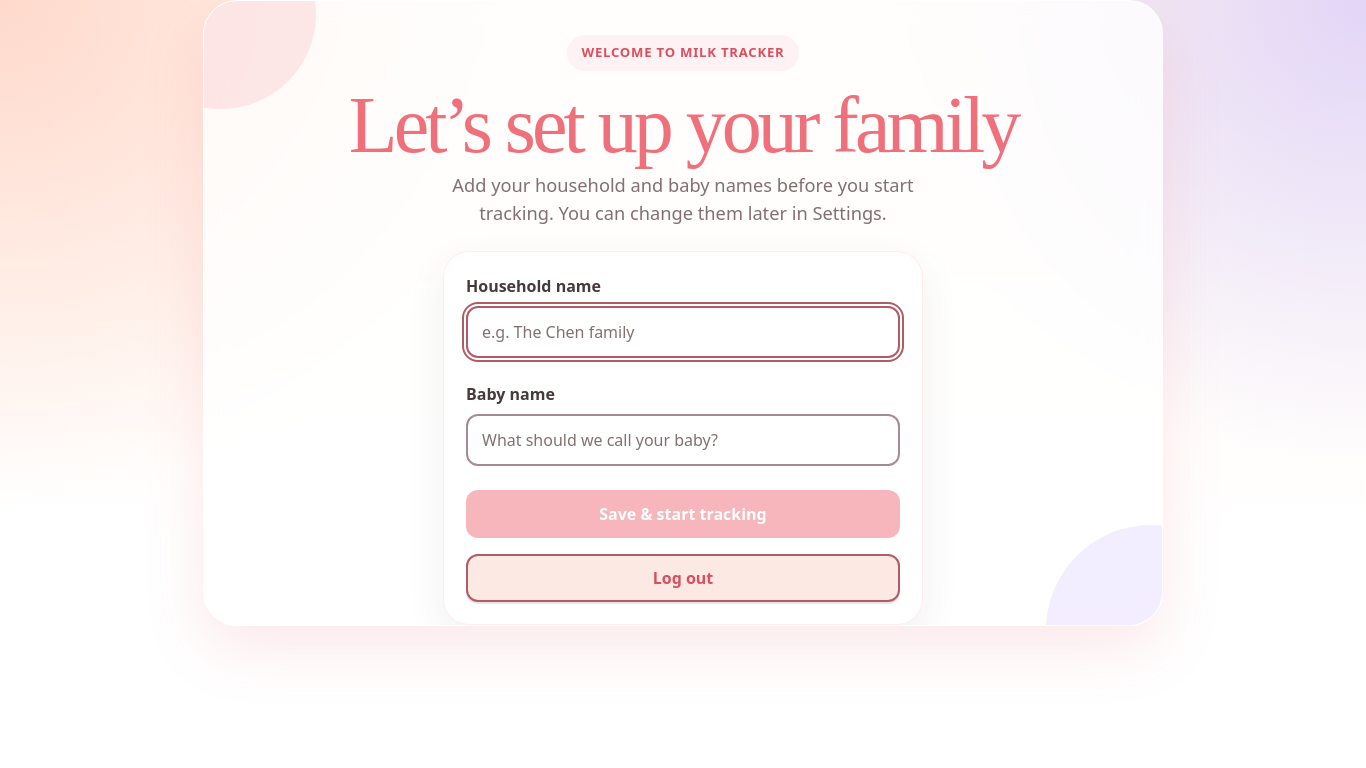
Test case: failed setup keeps both names available for retry and does not open tracking
Type "Family" into the field labelled "Household name" at point(683, 332), box [466, 306, 900, 358]
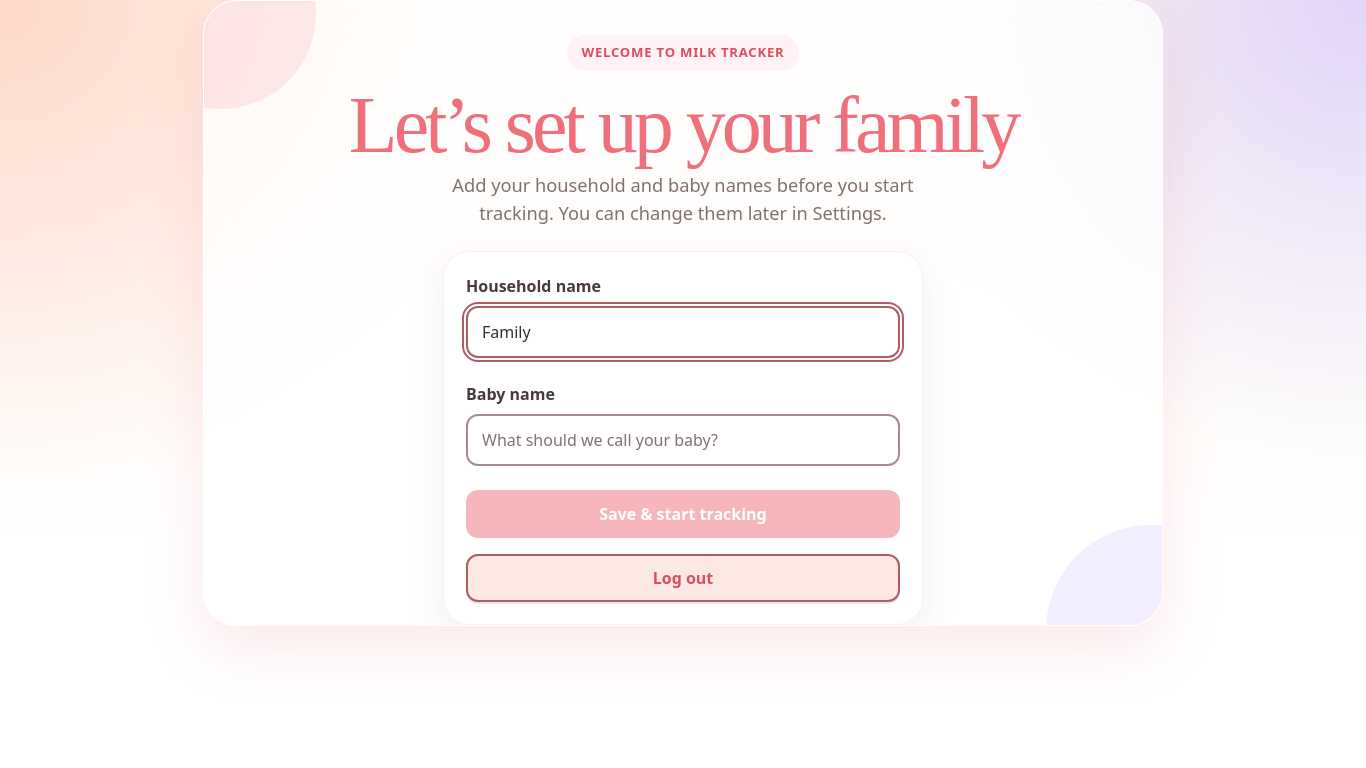
Type "Aria" into the field labelled "Baby name" at point(683, 440), box [466, 414, 900, 466]
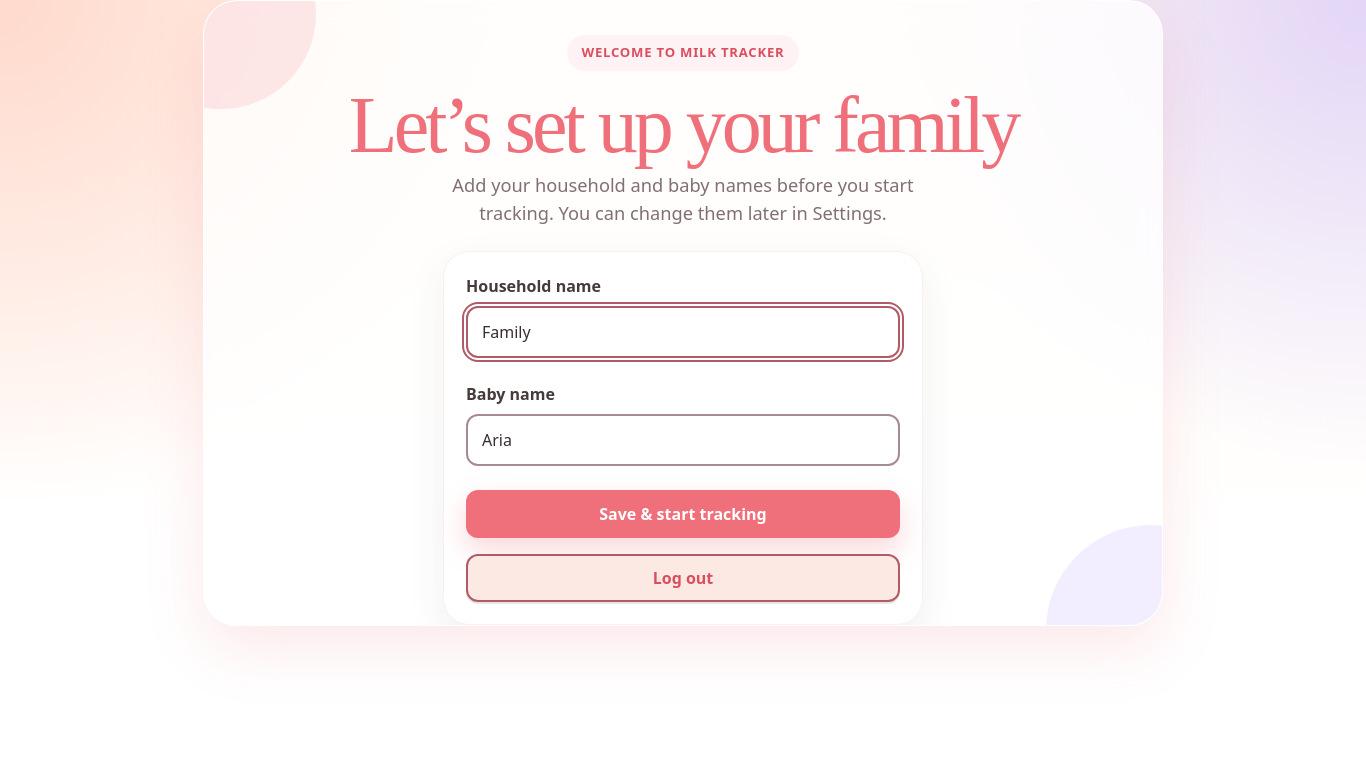
Click the button "Save & start tracking" at point(683, 514), box [466, 490, 900, 538]
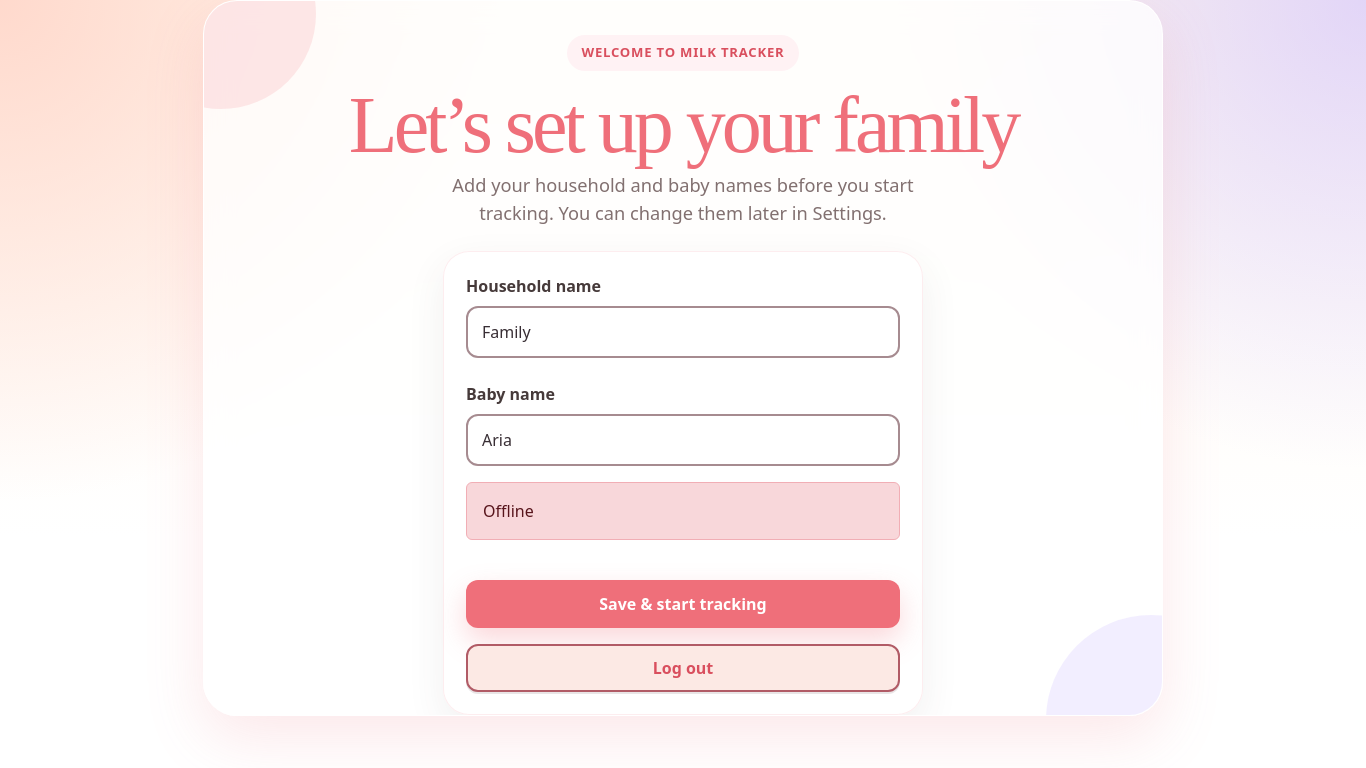
Check: the message "Offline" is shown, box [466, 482, 900, 540]
